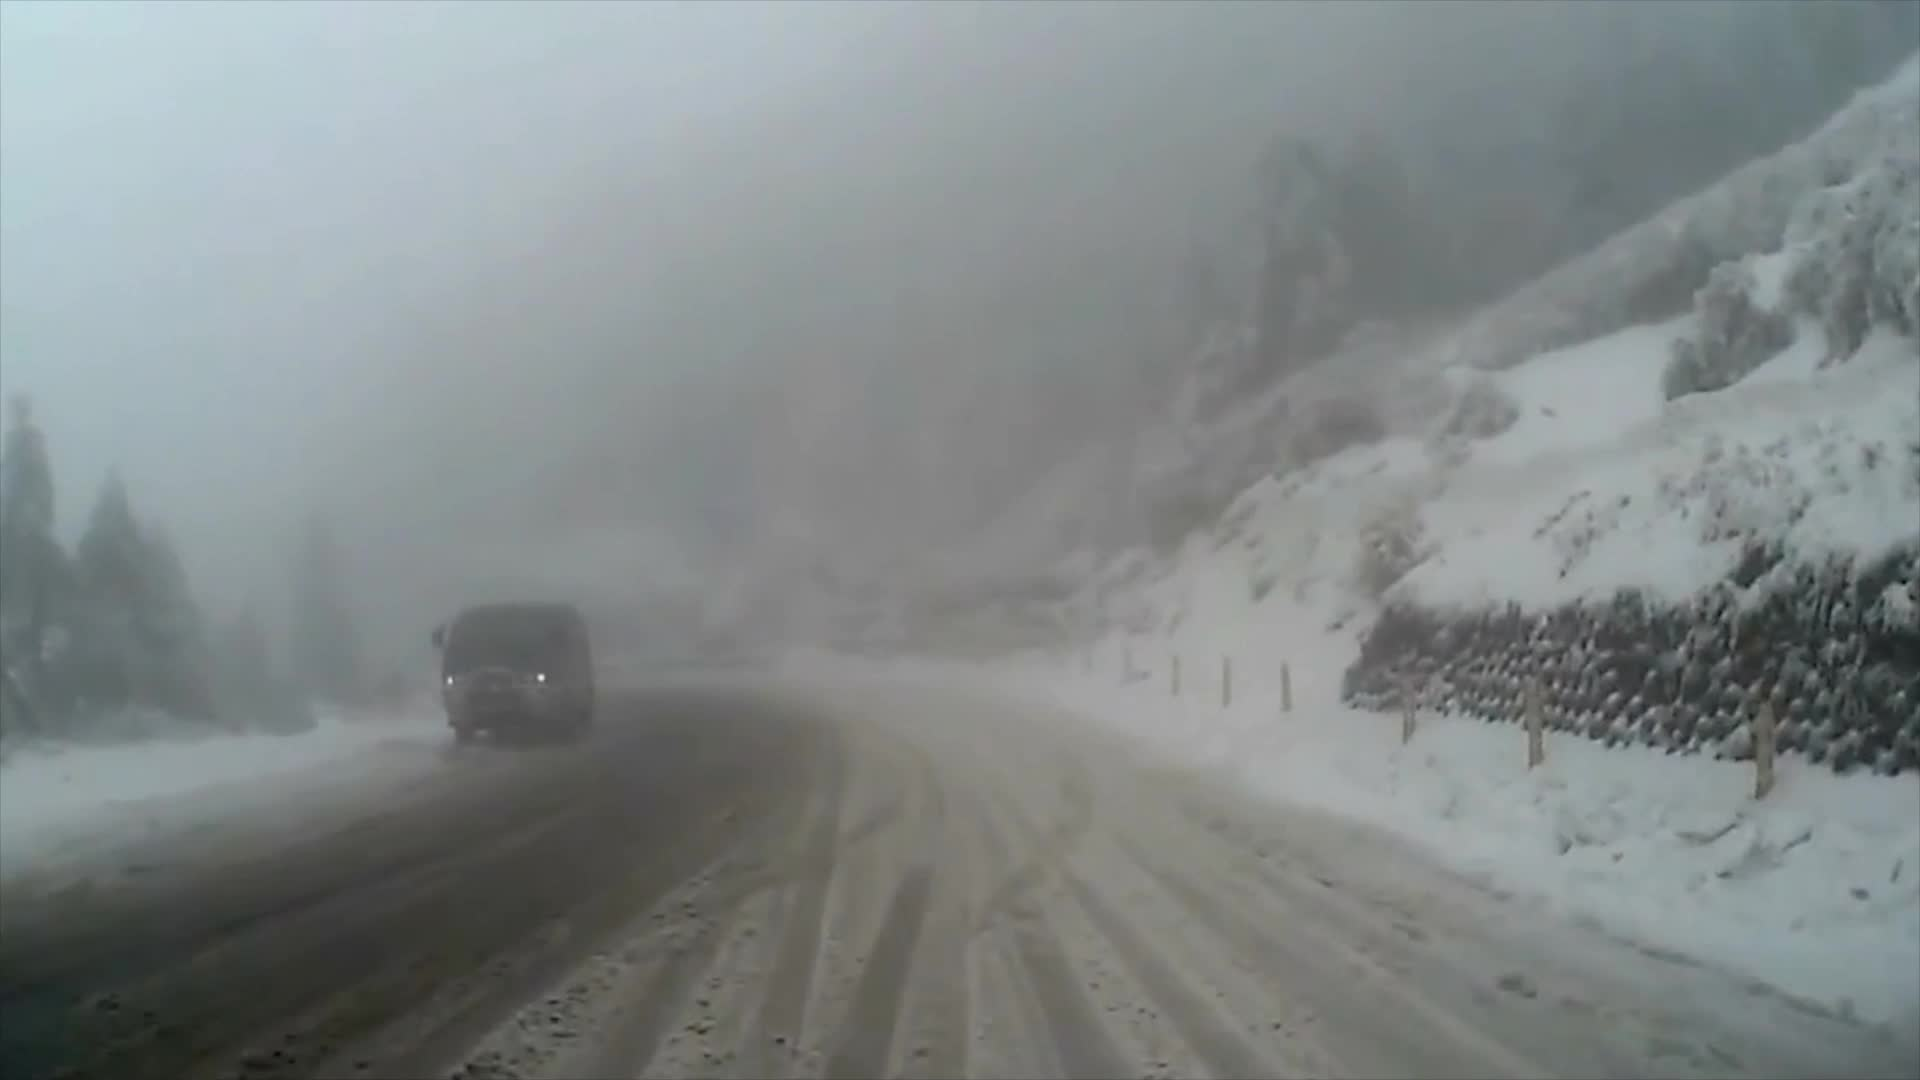vehicle: (429, 600, 595, 744)
